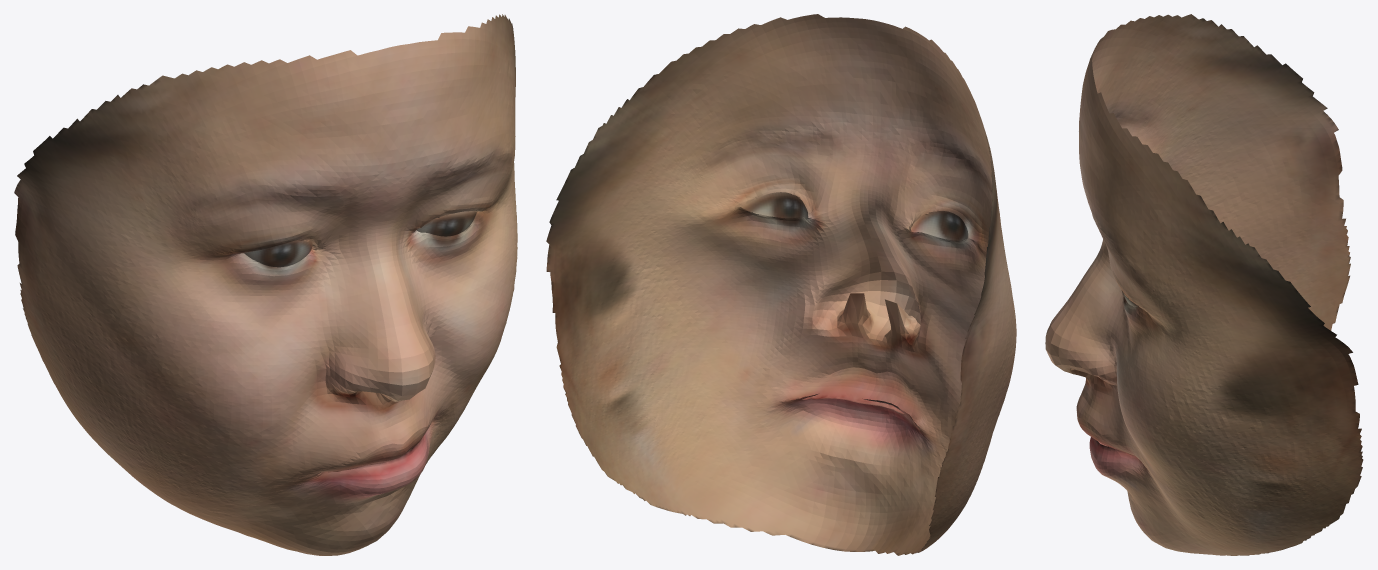
Rendered from 1_extractTex.obj.
3 views of the same model, side by side, from view 1: azimuth 30°, elevation 25°; view 2: azimuth 150°, elevation 25°; view 3: azimuth 270°, elevation 25° (orthographic). The views are drawn at different scales.
Bounding box in the file's own units: 1.5 × 1.66 × 0.9902.
